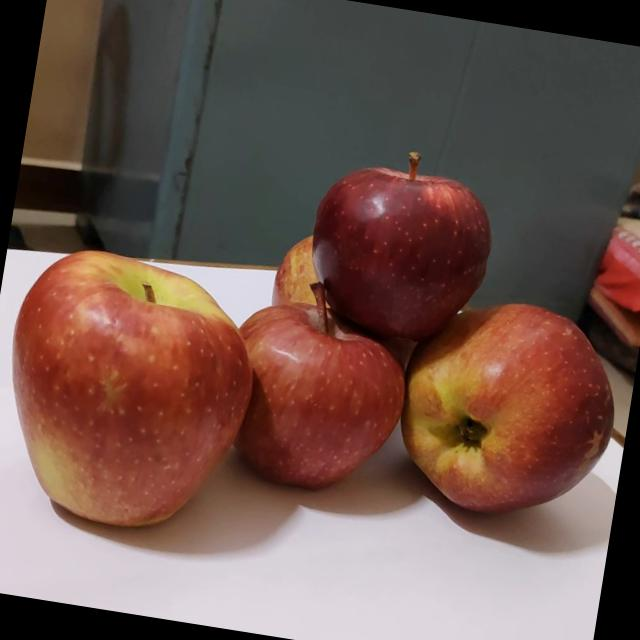apple: (0, 240, 272, 556), (386, 283, 634, 535), (214, 267, 424, 510), (294, 137, 506, 356), (266, 227, 350, 332)
